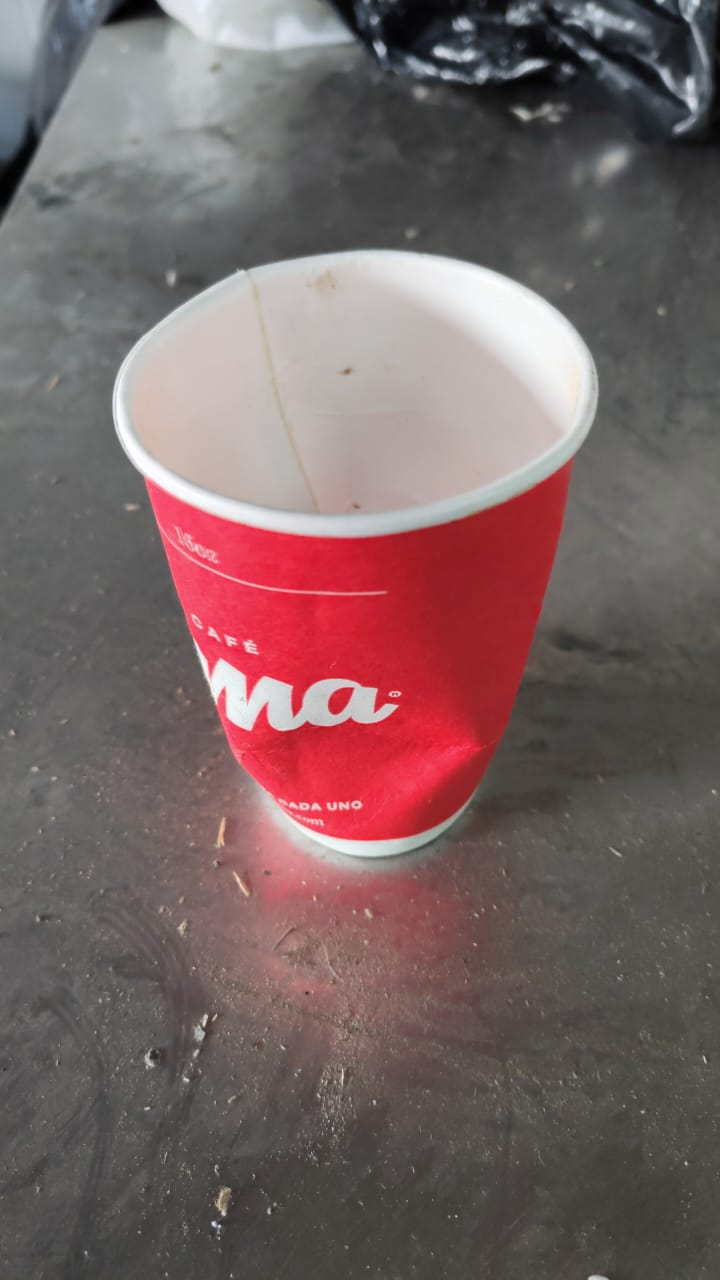Carton: (111, 250, 596, 860)
